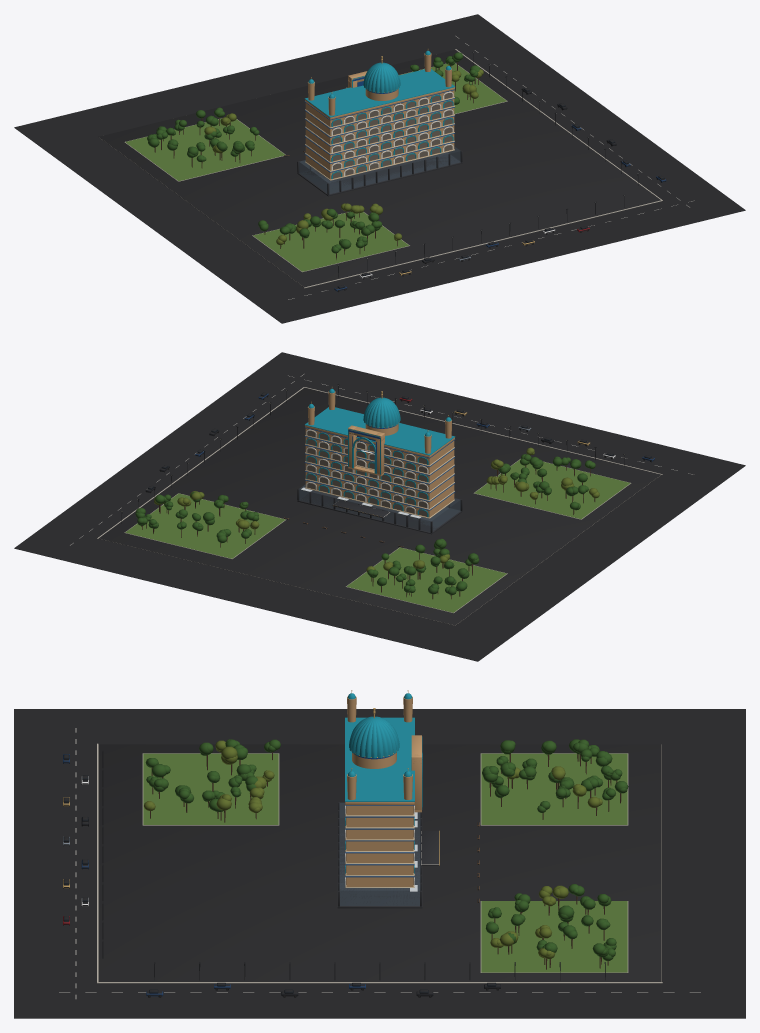
Rendered from heritage-residence.glb.
The picture shows the model from 3 angles, top to bottom: view 1: azimuth 30°, elevation 25°; view 2: azimuth 150°, elevation 25°; view 3: azimuth 270°, elevation 25°; orthographic projection. The views are drawn at different scales.
Parts seen in each view (by area): view 1: site, roof, podium, floor-4, floor-1, floor-3, floor-6, floor-2, floor-5, floor-7; view 2: site, roof, podium, floor-1, floor-3, floor-2, floor-4, floor-5, floor-6, floor-7; view 3: site, roof, podium, floor-2, floor-3, floor-4, floor-5, floor-6, floor-1, floor-7.
Part boxes in pixels (x1,y1,x2,y2): site: (14, 14, 745, 323); roof: (304, 49, 454, 119); podium: (297, 146, 462, 196); floor-4: (305, 115, 454, 154); floor-1: (305, 141, 454, 180); floor-3: (305, 124, 455, 163); floor-6: (305, 98, 454, 136); floor-2: (305, 133, 454, 171); floor-5: (305, 107, 454, 145); floor-7: (304, 89, 454, 128); site: (14, 352, 745, 661); roof: (305, 387, 455, 476); podium: (297, 484, 462, 534); floor-1: (305, 479, 454, 518); floor-3: (304, 462, 454, 501); floor-2: (305, 471, 454, 509); floor-4: (305, 453, 454, 492); floor-5: (305, 445, 454, 483); floor-6: (305, 436, 454, 474); floor-7: (305, 427, 455, 466); site: (14, 709, 745, 1018); roof: (345, 690, 422, 812); podium: (337, 802, 439, 908); floor-2: (345, 864, 414, 876); floor-3: (345, 852, 414, 864); floor-4: (345, 840, 414, 852); floor-5: (345, 828, 414, 840); floor-6: (345, 816, 414, 828); floor-1: (345, 876, 414, 887); floor-7: (345, 805, 414, 816).
Size of the model in its own units: 195 by 45.76 by 195.
